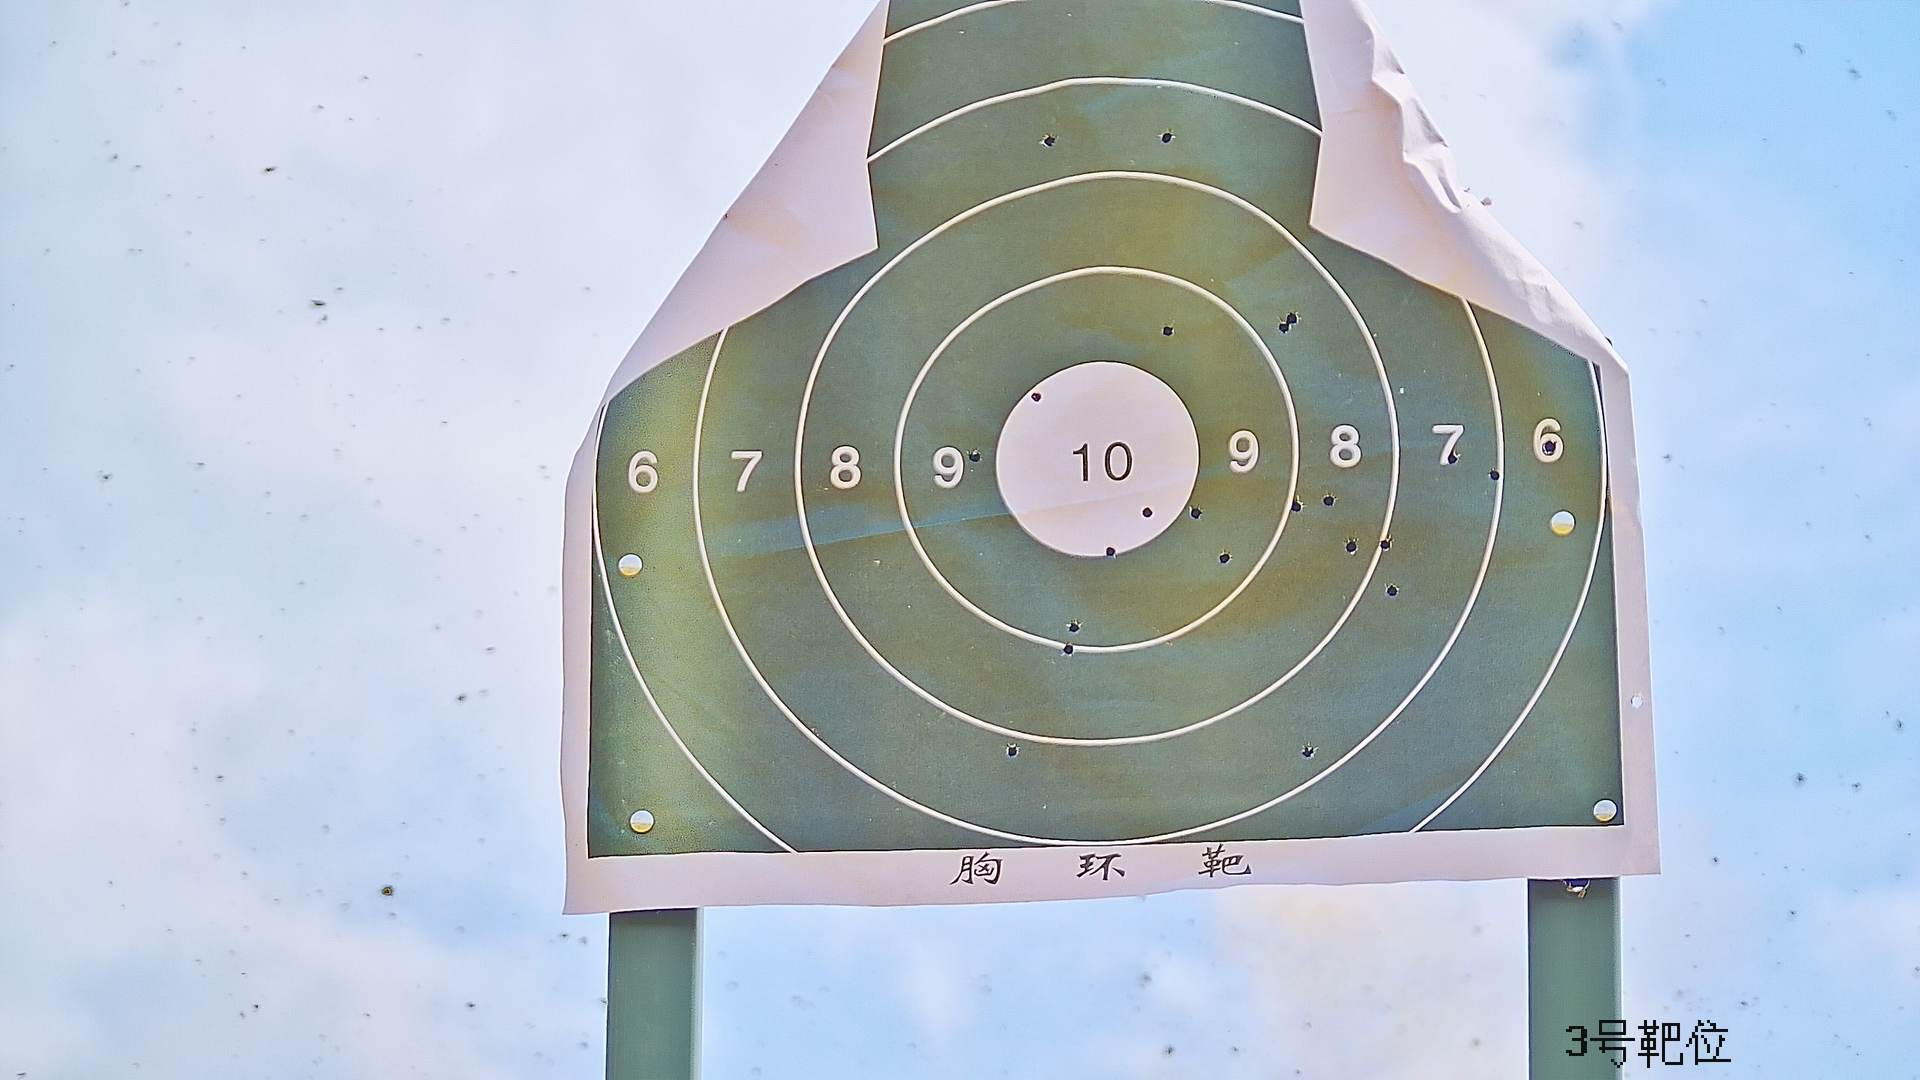hole: (1298, 741, 1317, 760), (1158, 322, 1178, 338), (1004, 744, 1021, 760), (1158, 128, 1175, 142), (1185, 506, 1204, 520), (1543, 438, 1556, 456), (967, 448, 982, 463), (1065, 618, 1080, 634), (1058, 644, 1073, 658), (1218, 551, 1233, 567), (1040, 135, 1059, 146), (1447, 448, 1458, 467), (1344, 538, 1358, 553), (1139, 504, 1153, 520), (1102, 545, 1116, 560), (1031, 392, 1048, 404), (1323, 493, 1337, 506), (1292, 498, 1304, 514), (1377, 538, 1393, 550), (1276, 319, 1288, 334), (1287, 310, 1298, 326), (1489, 467, 1499, 481), (1386, 584, 1398, 596)
kernel: (1095, 462, 1096, 467)
target: (584, 9, 1623, 866)
ten: (996, 360, 1203, 564)
